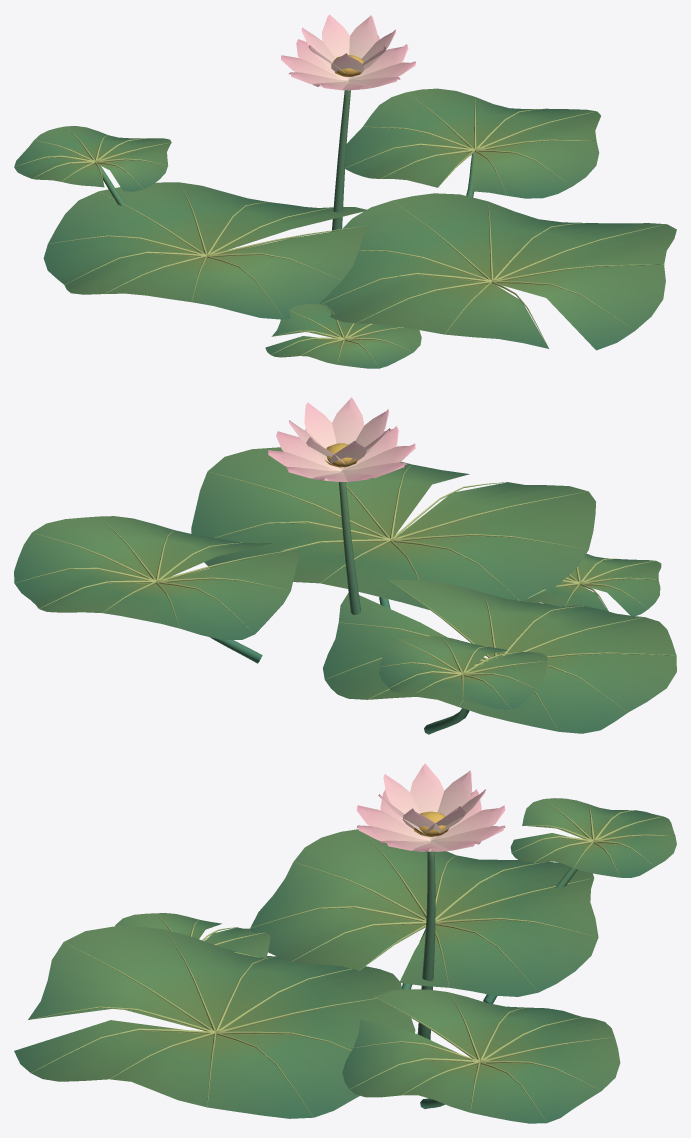
The picture shows the model from 3 angles, top to bottom: view 1: azimuth 30°, elevation 25°; view 2: azimuth 150°, elevation 25°; view 3: azimuth 270°, elevation 25°; orthographic projection. The views are drawn at different scales.
Parts seen in each view (by area): view 1: Leaves, Stems, Petals_and_pollen; view 2: Leaves, Stems, Petals_and_pollen; view 3: Leaves, Stems, Petals_and_pollen.
Part boxes in pixels (left/top/right/bottom): Leaves: left=14, top=88, right=676, bottom=368; Stems: left=14, top=90, right=666, bottom=368; Petals_and_pollen: left=281, top=14, right=415, bottom=90; Leaves: left=14, top=447, right=676, bottom=733; Stems: left=14, top=464, right=674, bottom=734; Petals_and_pollen: left=268, top=397, right=415, bottom=481; Leaves: left=14, top=798, right=676, bottom=1123; Stems: left=28, top=799, right=674, bottom=1122; Petals_and_pollen: left=356, top=763, right=505, bottom=851.
Size of the model in its own units: 1.8 by 0.7598 by 1.63.
